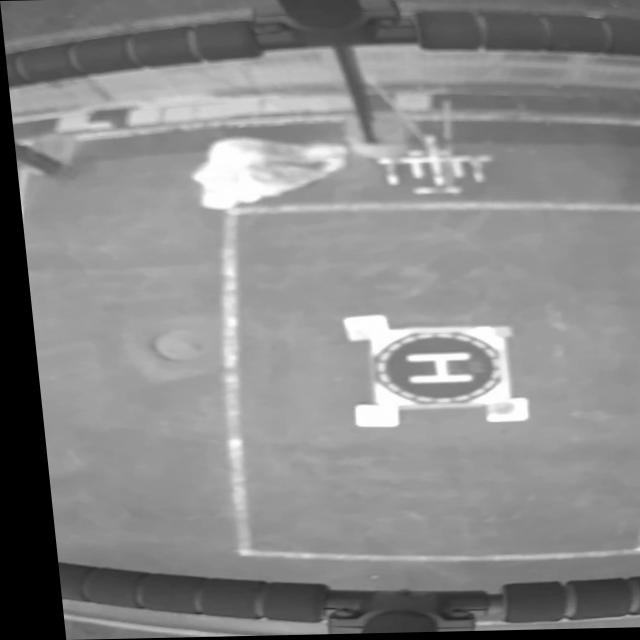Helipad: (393, 353, 469, 385)
